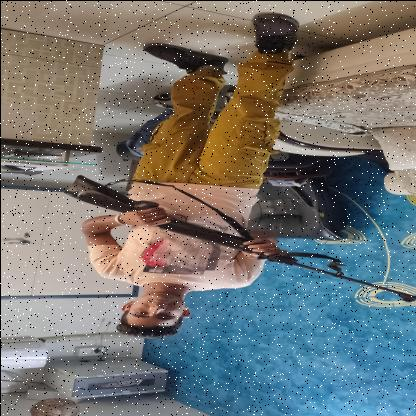rifle: (60, 172, 416, 302)
